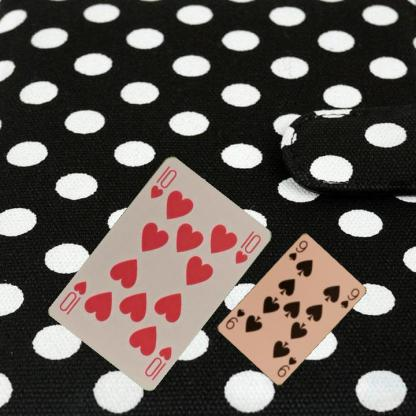10h: (141, 343, 174, 378), (148, 163, 178, 200)
9s: (286, 237, 309, 262), (275, 354, 298, 378)
